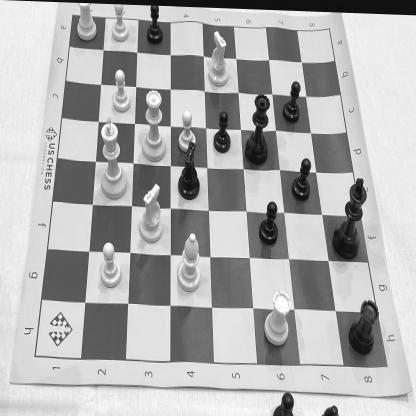black-king: (329, 173, 369, 260)
black-knight: (173, 139, 202, 200)
black-pawn: (256, 194, 279, 246), (290, 154, 312, 202), (282, 76, 302, 122), (145, 4, 165, 49), (213, 107, 231, 156)
black-queen: (244, 88, 271, 166)
black-rook: (348, 292, 380, 354)
white-bishop: (174, 228, 202, 294)
white-king: (96, 112, 129, 200)
white-knight: (139, 178, 164, 244), (206, 24, 230, 88)
white-pawn: (97, 237, 124, 289), (175, 107, 197, 153), (110, 66, 132, 112), (108, 3, 130, 42)
white-queen: (142, 85, 168, 162)
white-rook: (260, 283, 294, 348), (74, 2, 99, 42)
